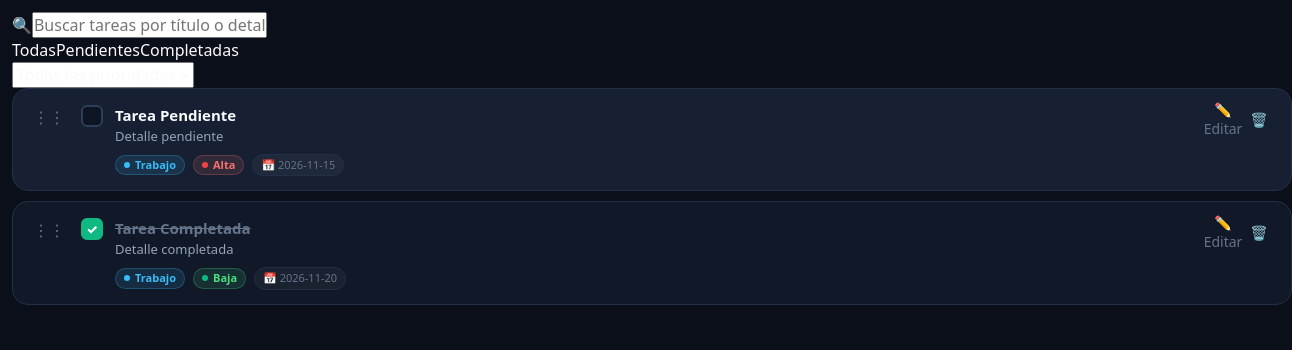
Test case: <TodoList /> (Component Tests) › debe mostrar el estado vacío cuando no hay tareas que coincidan
In the field with placeholder "Buscar tareas por título o detalle...": (150, 25) [32, 12, 267, 38], type "PalabraInexistente123"
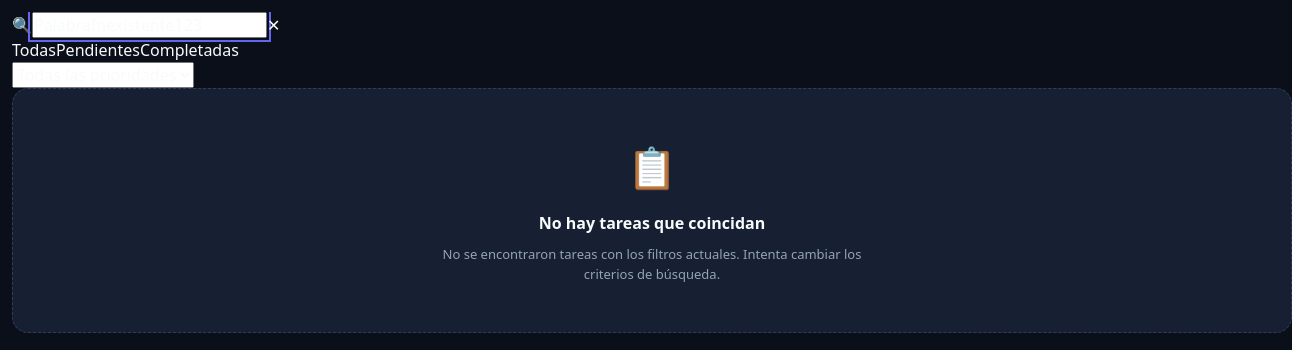
Expected: the heading "No hay tareas que coincidan" is shown, [539, 211, 765, 235]
